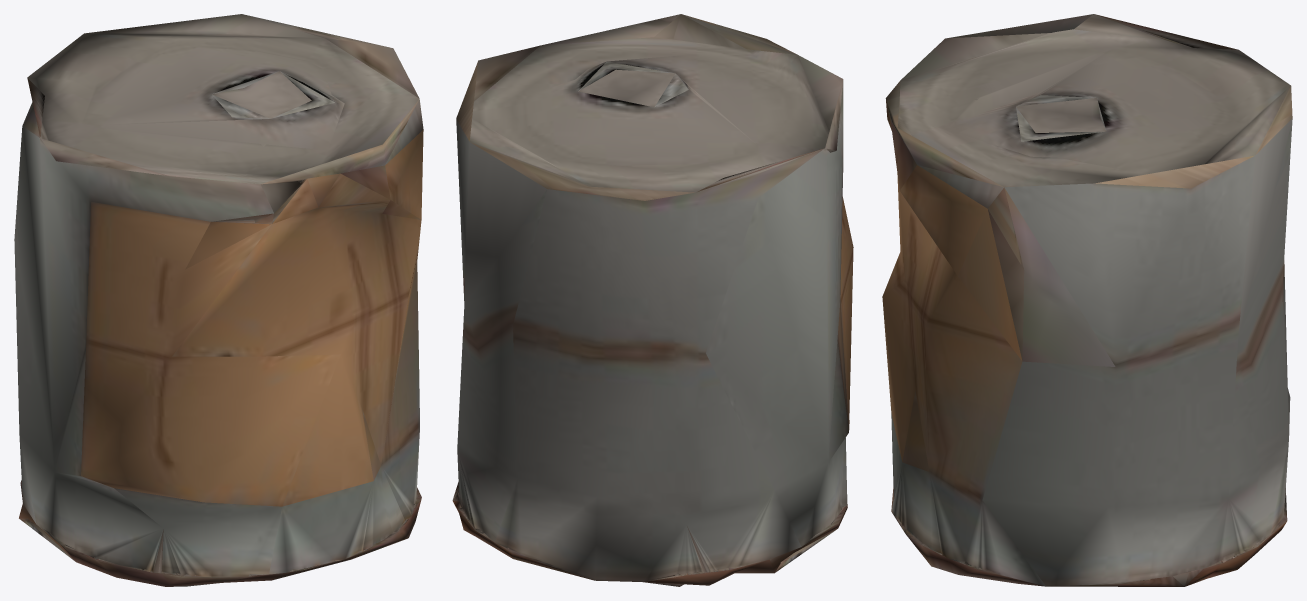
File: canned.glb
The picture shows the model from 3 angles, left to right: view 1: azimuth 30°, elevation 25°; view 2: azimuth 150°, elevation 25°; view 3: azimuth 270°, elevation 25°; orthographic projection. The views are drawn at different scales.
Parts seen in each view (by area): view 1: Mesh1.0; view 2: Mesh1.0; view 3: Mesh1.0.
Boxes of the visible parts, left/top/right/bottom form: Mesh1.0: left=14, top=14, right=423, bottom=586; Mesh1.0: left=452, top=14, right=853, bottom=586; Mesh1.0: left=882, top=14, right=1292, bottom=586.
Bounding box in the file's own units: 0.8855 × 1 × 0.8877.
1 material, 1 textured.
